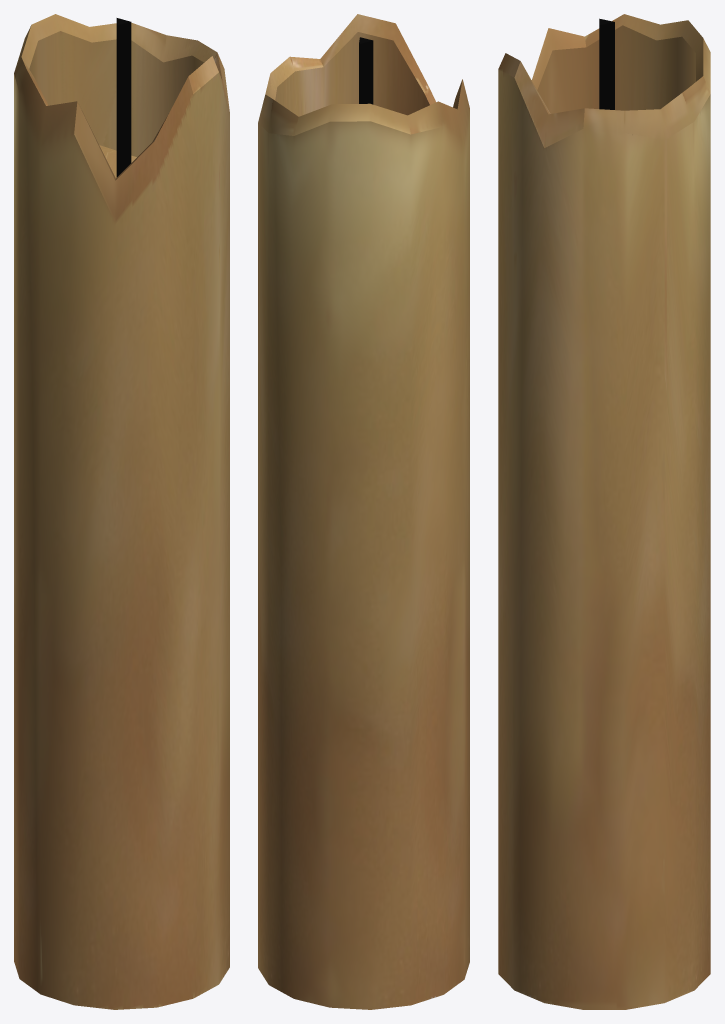
File: kynttila3.fbx
3 views of the same model, side by side, from view 1: azimuth 30°, elevation 25°; view 2: azimuth 150°, elevation 25°; view 3: azimuth 270°, elevation 25° (orthographic). The views are drawn at different scales.
Visible parts, largest first — view 1: kynttila2; view 2: kynttila2; view 3: kynttila2.
Part boxes in pixels (x1,y1,x2,y2): kynttila2: (14,14,229,1009); kynttila2: (258,14,469,1009); kynttila2: (498,14,710,1009).
Size of the model in its own units: 196 by 961 by 196.
